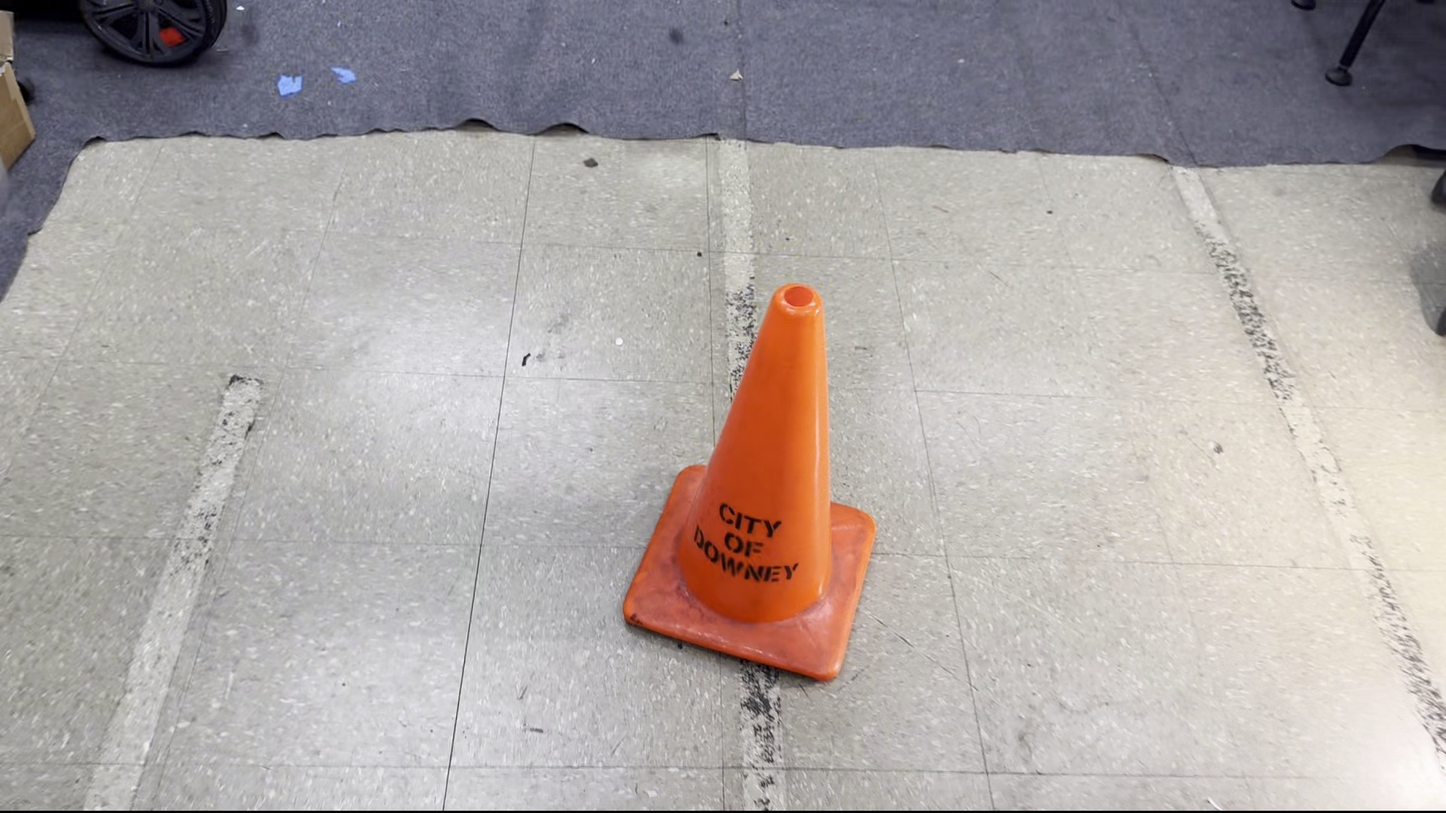traffic_cone: (622, 282, 877, 682)
